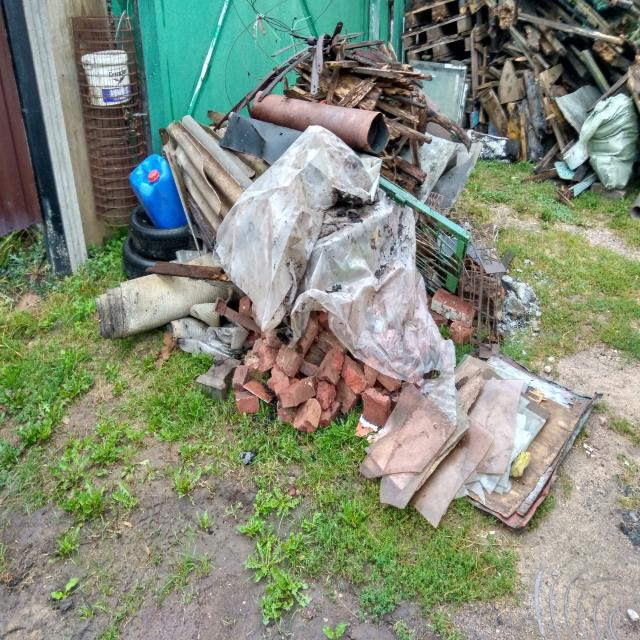entulho: (353, 353, 599, 540), (462, 2, 640, 206), (249, 34, 452, 181), (213, 115, 336, 331), (312, 172, 468, 310), (224, 300, 370, 435), (152, 112, 264, 256), (91, 267, 242, 340), (395, 0, 536, 68), (164, 293, 260, 366), (80, 51, 131, 108)
